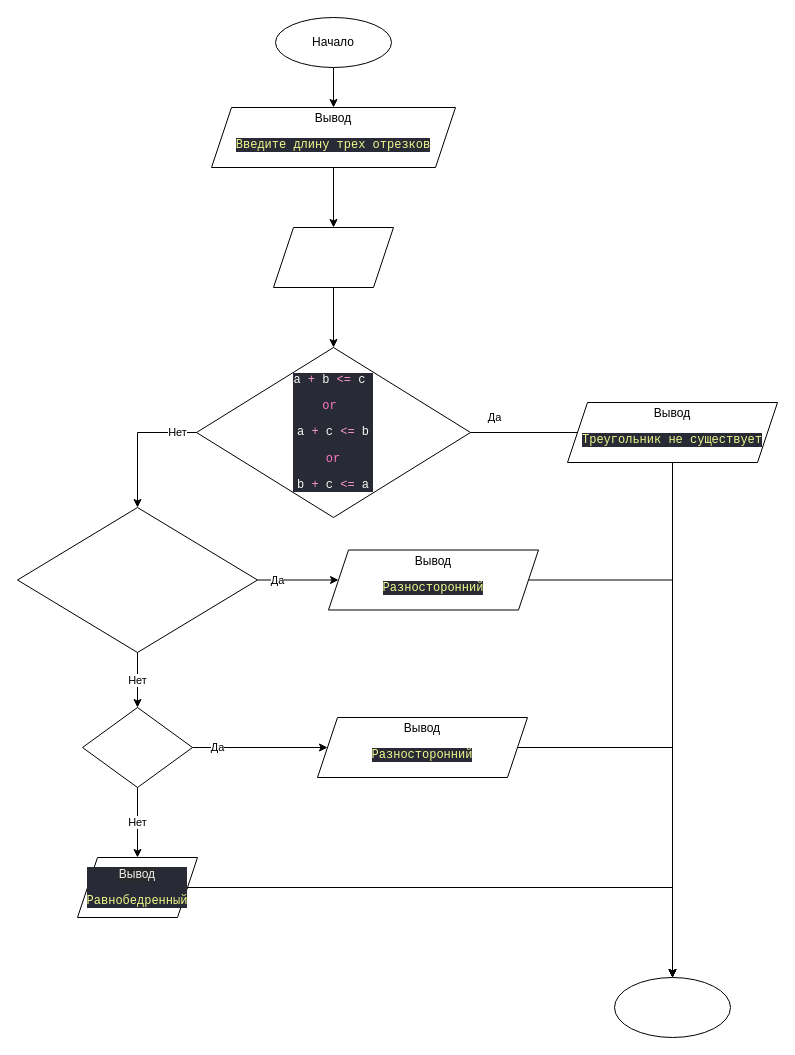
The diagram is 795 pixels wide and 1055 high, and some of its shapes have lost their labels. Here are the shapes that lost their labels. From the top down, the centre of each, then its label:
the point at 333,257: Ввод a, b, c
the point at 137,579: a != b and a != c and b != c
the point at 137,747: a == b == c
the point at 672,1007: Конецу
